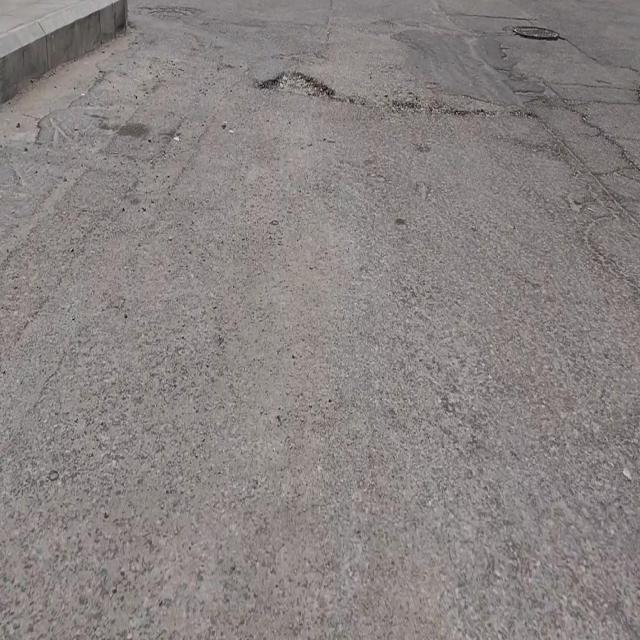Potholes: (256, 66, 335, 102)
